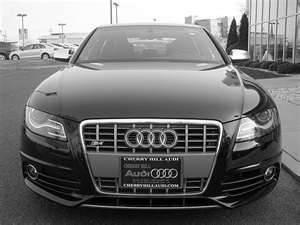car: (19, 25, 287, 217)
